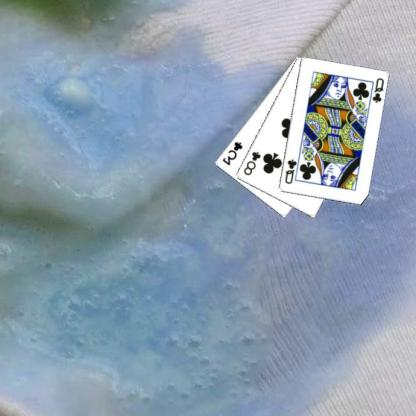3C: (221, 139, 245, 166)
8C: (242, 149, 263, 177)
QC: (284, 157, 300, 185), (372, 76, 386, 104)
